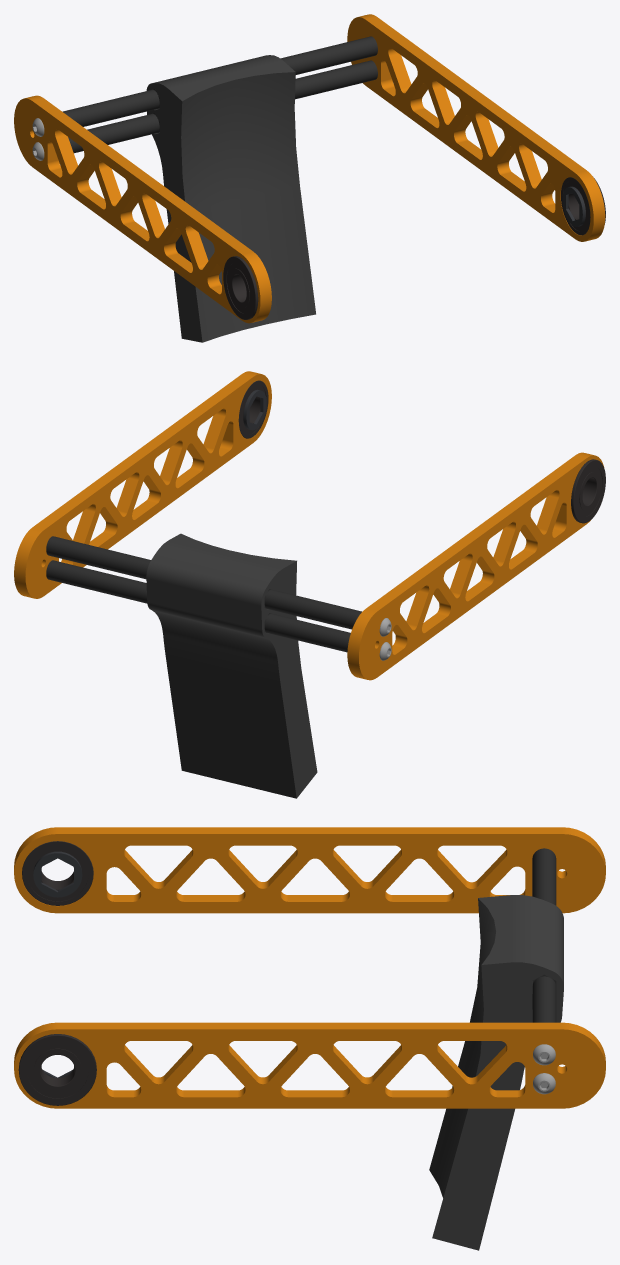
3 views of the same model, one above another, from view 1: azimuth 30°, elevation 25°; view 2: azimuth 150°, elevation 25°; view 3: azimuth 270°, elevation 25° (orthographic). The views are drawn at different scales.
Parts seen in each view (by area): view 1: 261-6107 v7:1, 261-6109 v7:1, 261-6109 v7:2, 261-6114 v1:1, 261-6114 v1:3, 261-6114 v1:2, Brg-FL_0.5RndHex_13.75mm_1.125OD_0.313WD_WCP-0785 v4:1, 261-6114 v1:4, Brg-FL_0.5RndHex_13.75mm_1.125OD_0.313WD_WCP-0785 v4:2, Washer_0.5Hex_0.625OD_0.063WD_WCP-0787 v2:2; view 2: 261-6107 v7:1, 261-6109 v7:1, 261-6109 v7:2, 261-6114 v1:1, 261-6114 v1:2, 261-6114 v1:3, 261-6114 v1:4, Brg-FL_0.5RndHex_13.75mm_1.125OD_0.313WD_WCP-0785 v4:1, Brg-FL_0.5RndHex_13.75mm_1.125OD_0.313WD_WCP-0785 v4:2; view 3: 261-6109 v7:2, 261-6109 v7:1, 261-6107 v7:1, Brg-FL_0.5RndHex_13.75mm_1.125OD_0.313WD_WCP-0785 v4:2, Brg-FL_0.5RndHex_13.75mm_1.125OD_0.313WD_WCP-0785 v4:1, 261-6114 v1:3, 261-6114 v1:1, Washer_0.5Hex_0.625OD_0.063WD_WCP-0787 v2:1.
Part boxes in pixels (left/top/right/bottom): 261-6107 v7:1: left=146, top=55, right=315, bottom=342; 261-6109 v7:1: left=14, top=95, right=271, bottom=323; 261-6109 v7:2: left=347, top=14, right=605, bottom=241; 261-6114 v1:1: left=280, top=36, right=377, bottom=74; 261-6114 v1:3: left=62, top=89, right=159, bottom=126; 261-6114 v1:2: left=295, top=60, right=377, bottom=99; Brg-FL_0.5RndHex_13.75mm_1.125OD_0.313WD_WCP-0785 v4:1: left=223, top=256, right=258, bottom=319; 261-6114 v1:4: left=68, top=113, right=159, bottom=153; Brg-FL_0.5RndHex_13.75mm_1.125OD_0.313WD_WCP-0785 v4:2: left=561, top=177, right=605, bottom=235; Washer_0.5Hex_0.625OD_0.063WD_WCP-0787 v2:2: left=562, top=186, right=585, bottom=226; 261-6107 v7:1: left=146, top=533, right=317, bottom=798; 261-6109 v7:1: left=347, top=452, right=604, bottom=680; 261-6109 v7:2: left=14, top=371, right=271, bottom=598; 261-6114 v1:1: left=46, top=536, right=150, bottom=579; 261-6114 v1:2: left=46, top=560, right=147, bottom=603; 261-6114 v1:3: left=264, top=589, right=361, bottom=629; 261-6114 v1:4: left=264, top=613, right=350, bottom=652; Brg-FL_0.5RndHex_13.75mm_1.125OD_0.313WD_WCP-0785 v4:1: left=571, top=459, right=605, bottom=523; Brg-FL_0.5RndHex_13.75mm_1.125OD_0.313WD_WCP-0785 v4:2: left=238, top=380, right=268, bottom=438; 261-6109 v7:2: left=14, top=1022, right=605, bottom=1108; 261-6109 v7:1: left=14, top=827, right=605, bottom=913; 261-6107 v7:1: left=429, top=895, right=563, bottom=1250; Brg-FL_0.5RndHex_13.75mm_1.125OD_0.313WD_WCP-0785 v4:2: left=18, top=1034, right=96, bottom=1105; Brg-FL_0.5RndHex_13.75mm_1.125OD_0.313WD_WCP-0785 v4:1: left=22, top=841, right=93, bottom=905; 261-6114 v1:3: left=532, top=848, right=556, bottom=905; 261-6114 v1:1: left=532, top=976, right=556, bottom=1022; Washer_0.5Hex_0.625OD_0.063WD_WCP-0787 v2:1: left=33, top=851, right=82, bottom=897.
Size of the model in its own units: 0.1956 by 0.1269 by 0.2358.
